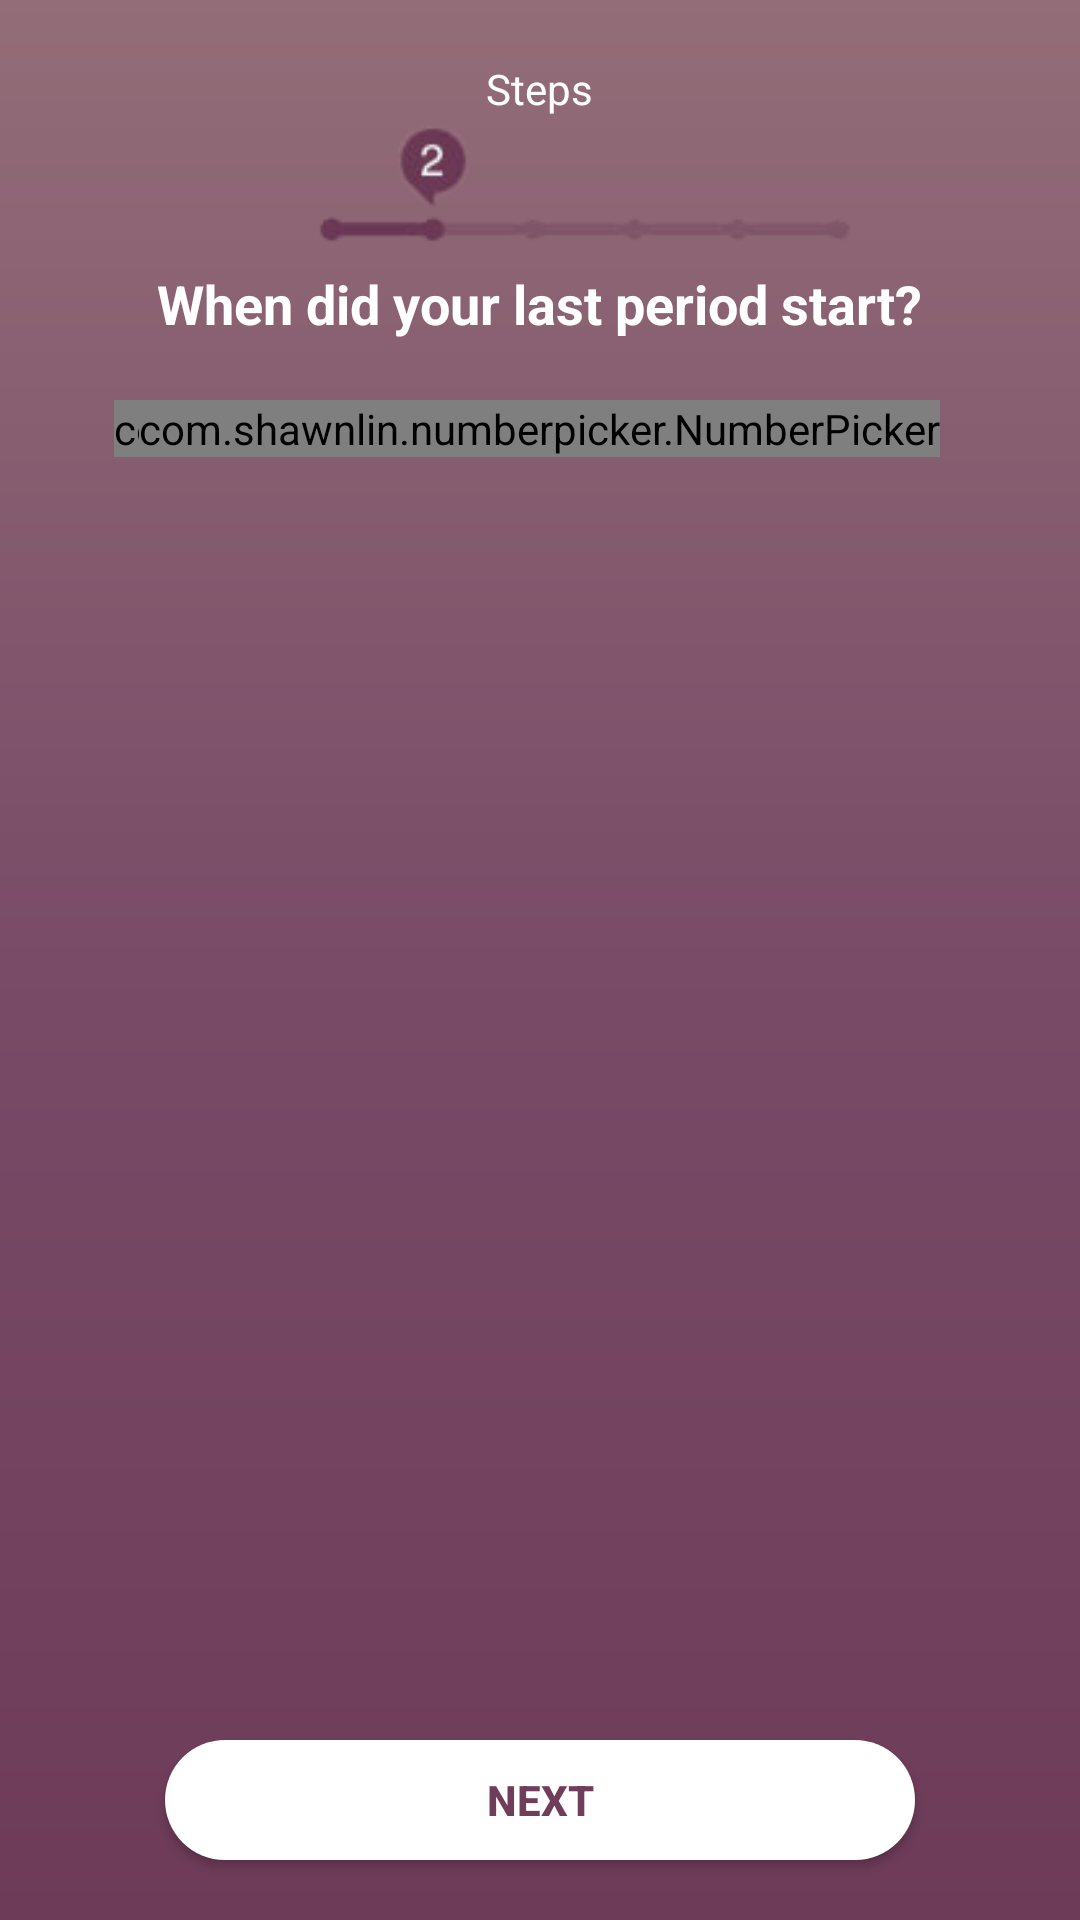

Screen size 1080 x 1920. Icon name, then its center in pixels as (x=x, y=y):
progresstwo: (x=393, y=184)
